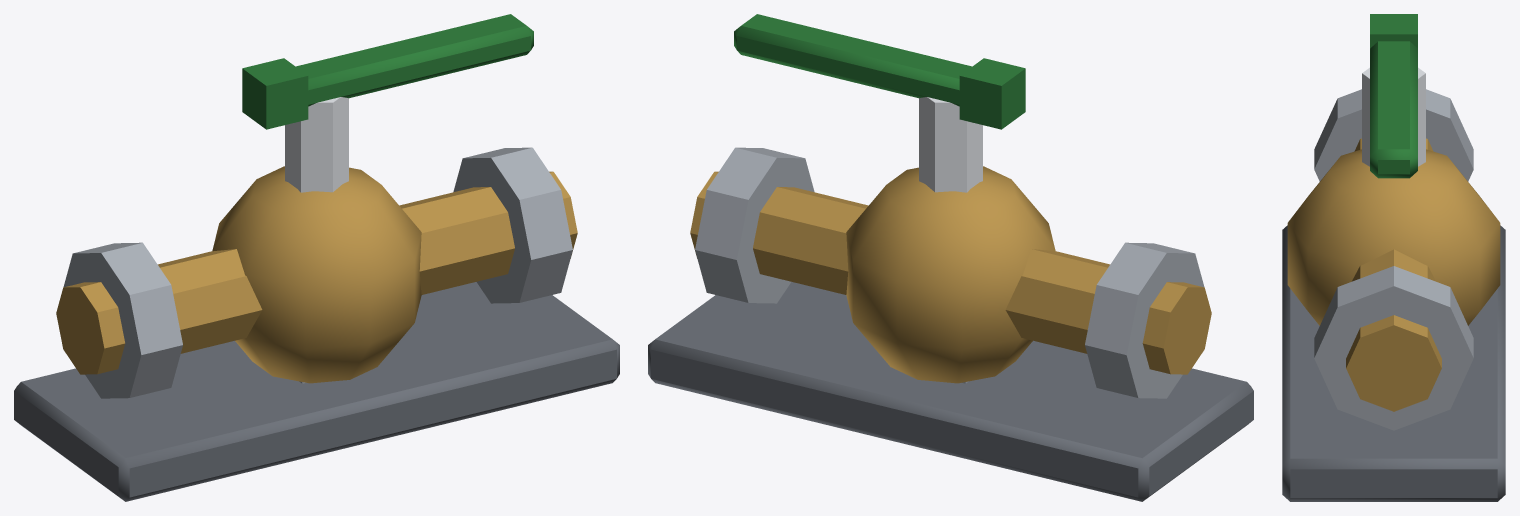
The model's file is valve_ball_valve.glb.
3 renders of one model, left to right at view 1: azimuth 30°, elevation 25°; view 2: azimuth 150°, elevation 25°; view 3: azimuth 270°, elevation 25°, orthographic.
Visible parts, largest first — view 1: valve_ball_valve; view 2: valve_ball_valve; view 3: valve_ball_valve.
Boxes of the visible parts, x1,y1,x2,y2 form: valve_ball_valve: (14,14,619,501); valve_ball_valve: (648,14,1253,501); valve_ball_valve: (1282,14,1505,501).
Bounding box in the file's own units: 0.36 × 0.235 × 0.14.
